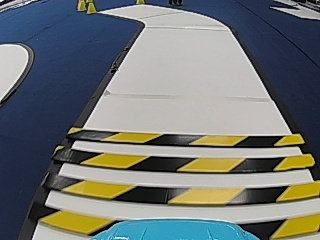bump: (70, 130, 290, 224)
